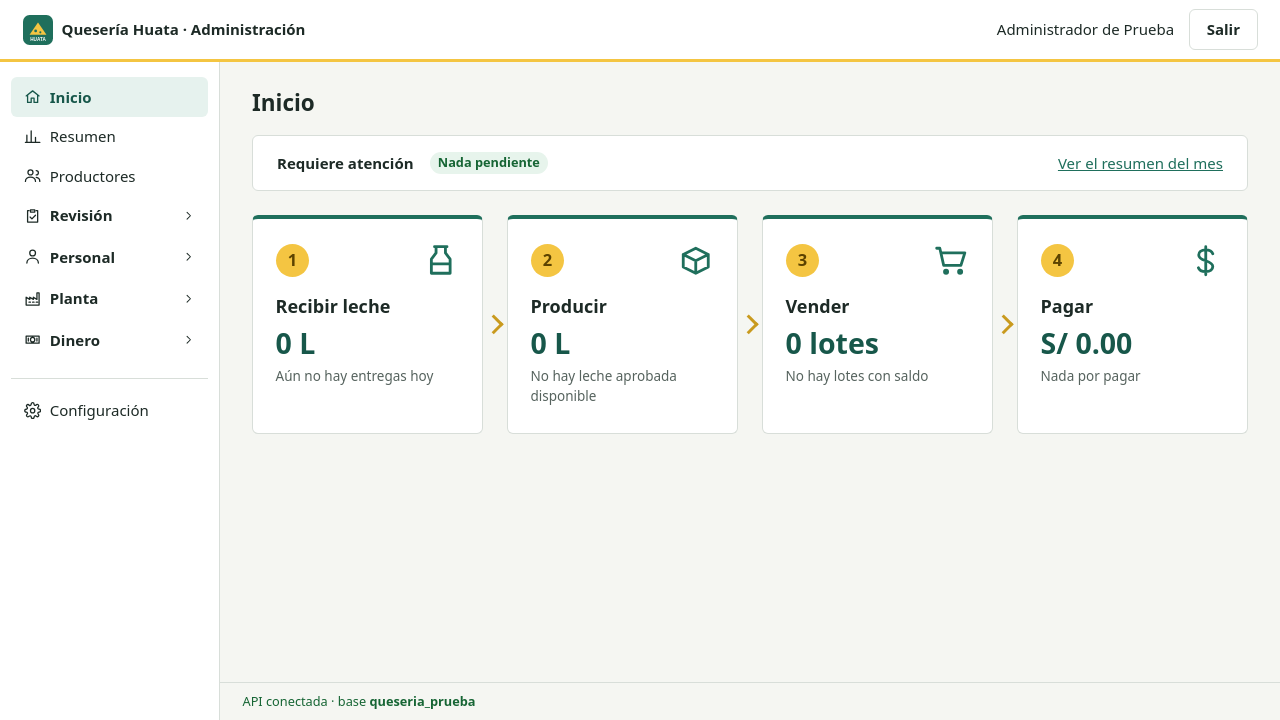
Test case: configuración: precio de la leche › el menú lleva a Configuración; el historial marca el vigente de cada tipo y el programado
Click the link "Configuración". click: (86, 410)
box: x1=24 y1=400 x2=149 y2=420
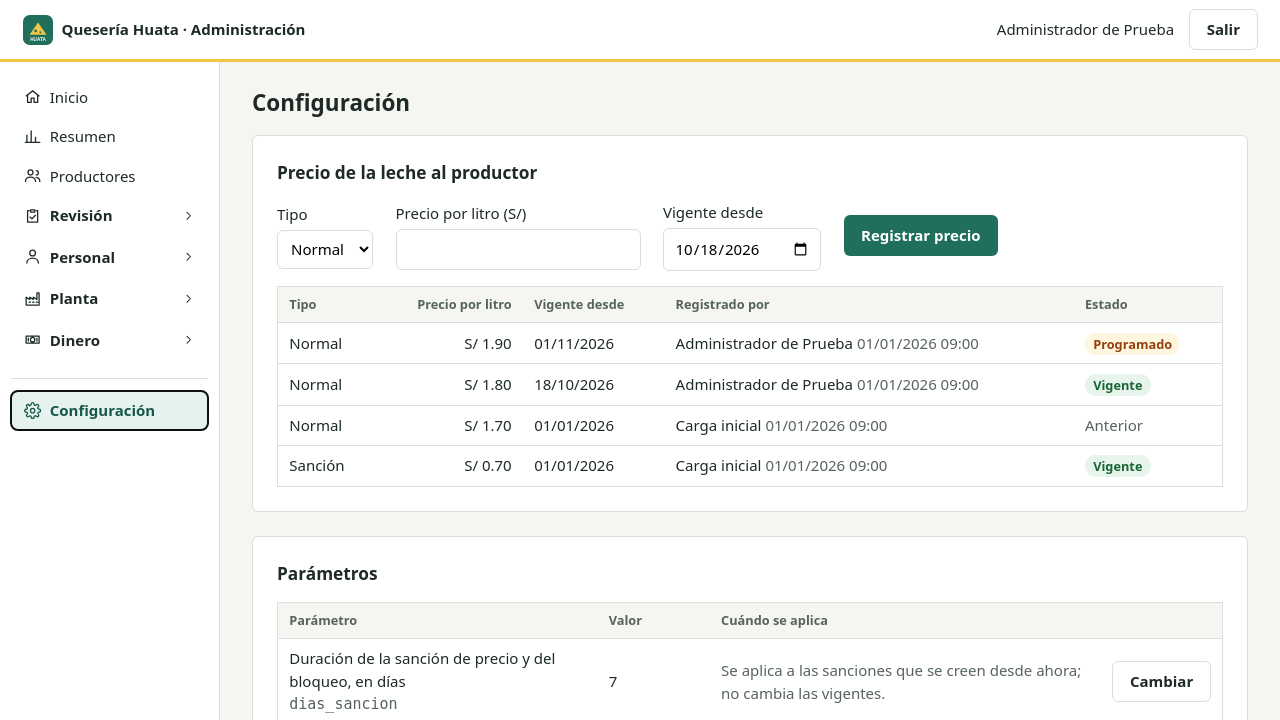
Result: the cell "Carga inicial 01/01/2026 09:00" in the row of "S/ 1.70" is shown at x1=676 y1=415 x2=762 y2=435
